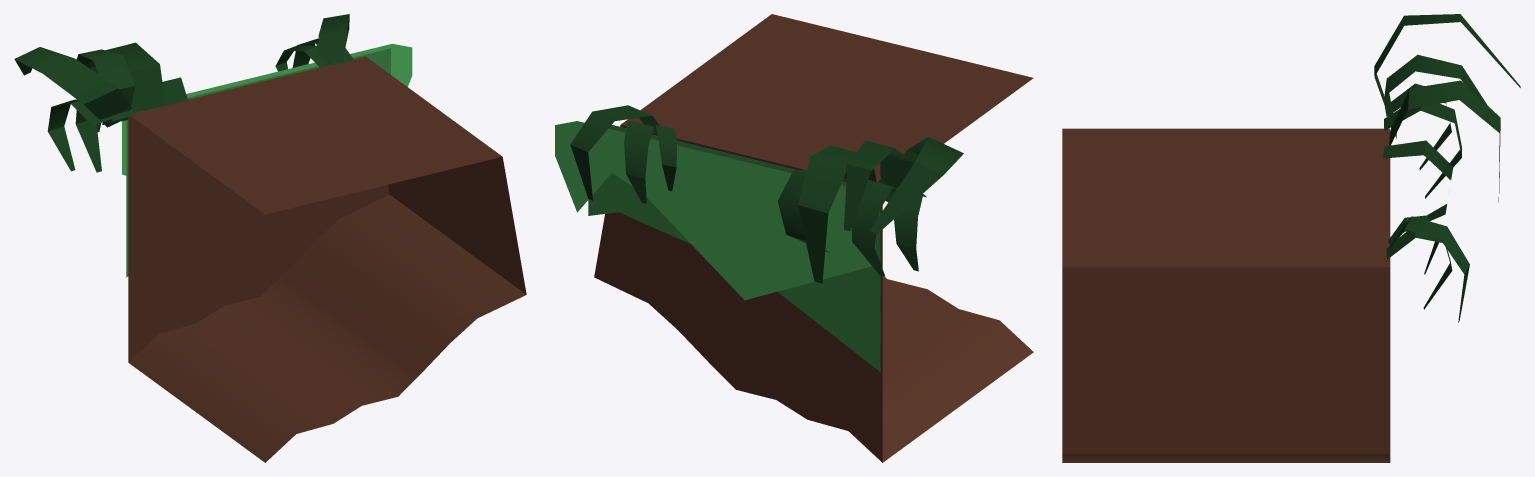
Rendered from Tile_Earth_Full_Left_001.fbx.
3 renders of one model, left to right at view 1: azimuth 30°, elevation 25°; view 2: azimuth 150°, elevation 25°; view 3: azimuth 270°, elevation 25°, orthographic. The views are drawn at different scales.
Parts seen in each view (by area): view 1: Environment_Earth_Full; view 2: Environment_Earth_Full; view 3: Environment_Earth_Full.
Part boxes in pixels (<box>): Environment_Earth_Full: <box>14,14,526,462</box>; Environment_Earth_Full: <box>555,14,1033,462</box>; Environment_Earth_Full: <box>1062,14,1520,462</box>.
Size of the model in its own units: 158 by 125 by 140.
